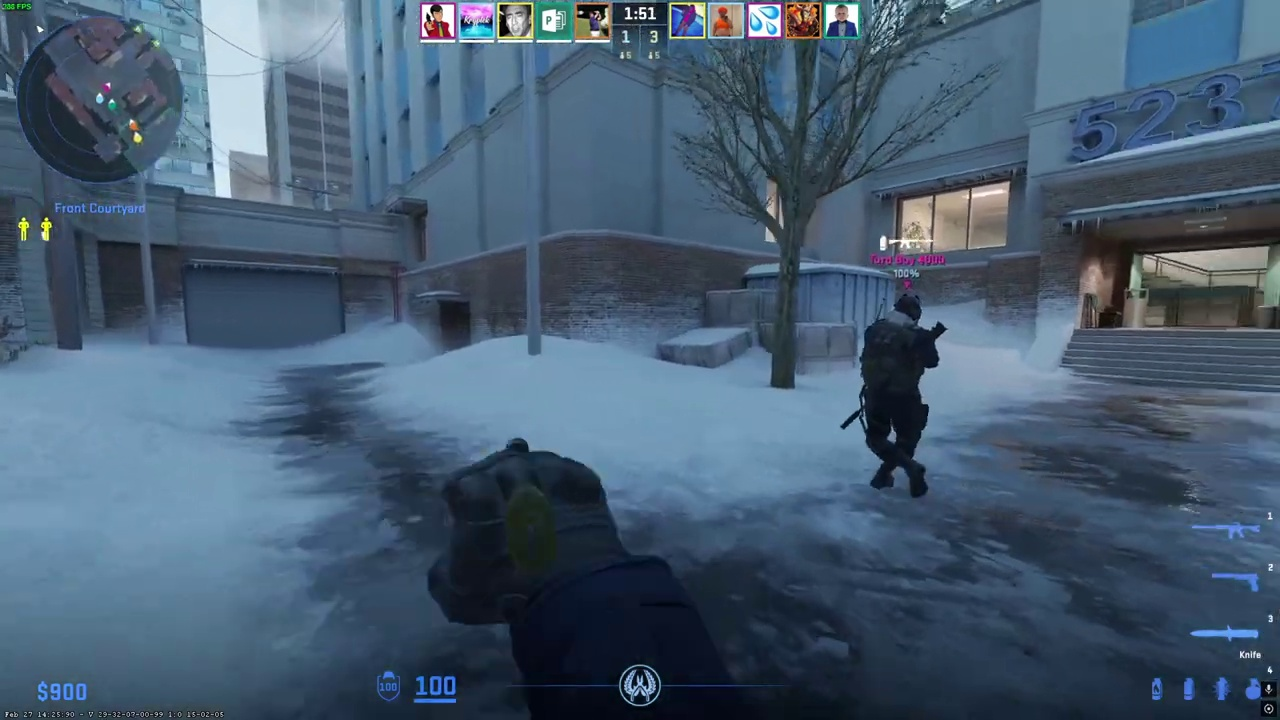CT: (858, 293, 937, 498)
